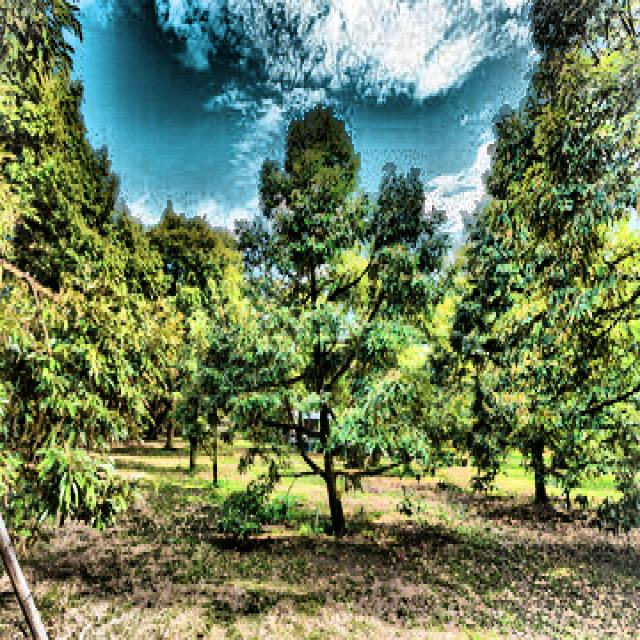arvore: (306, 294, 358, 554), (519, 339, 564, 545), (184, 360, 205, 503)
